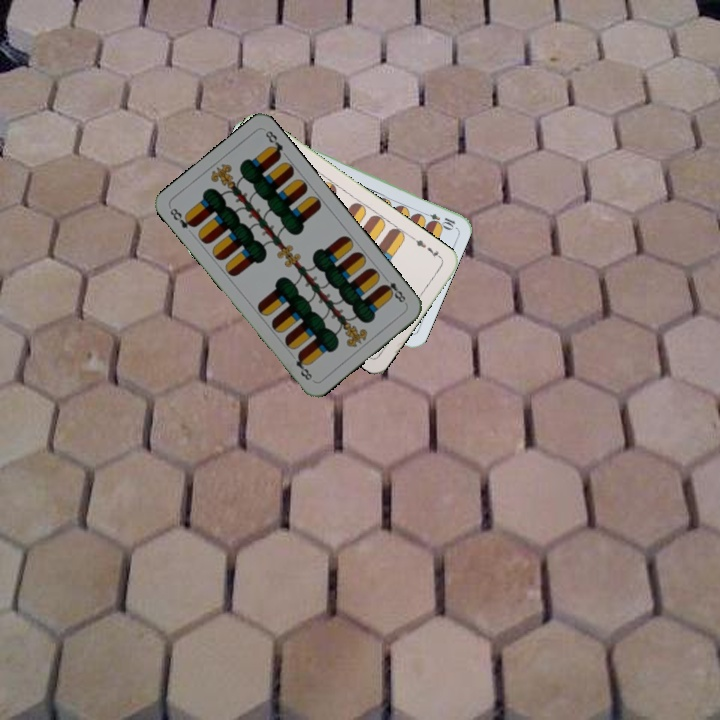E10: (418, 208, 458, 231)
E7: (409, 234, 445, 262)
E8: (378, 272, 409, 307), (166, 204, 198, 231)
